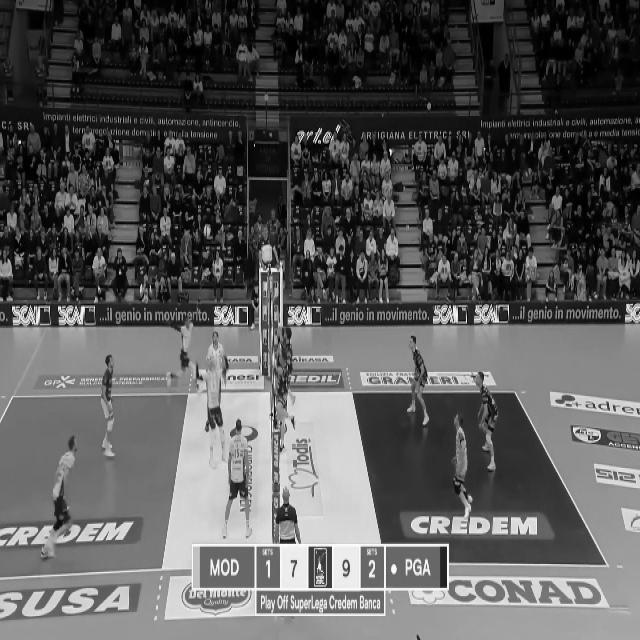volleyball court: (0, 389, 607, 578)
